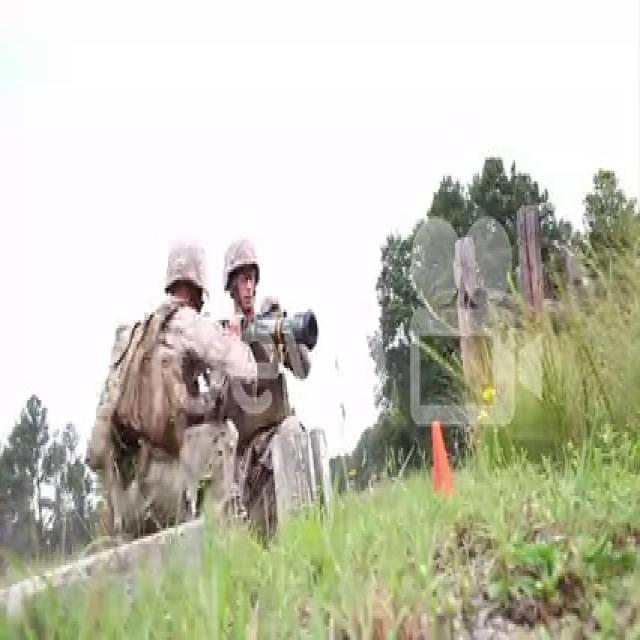bazooka: (220, 305, 326, 357)
